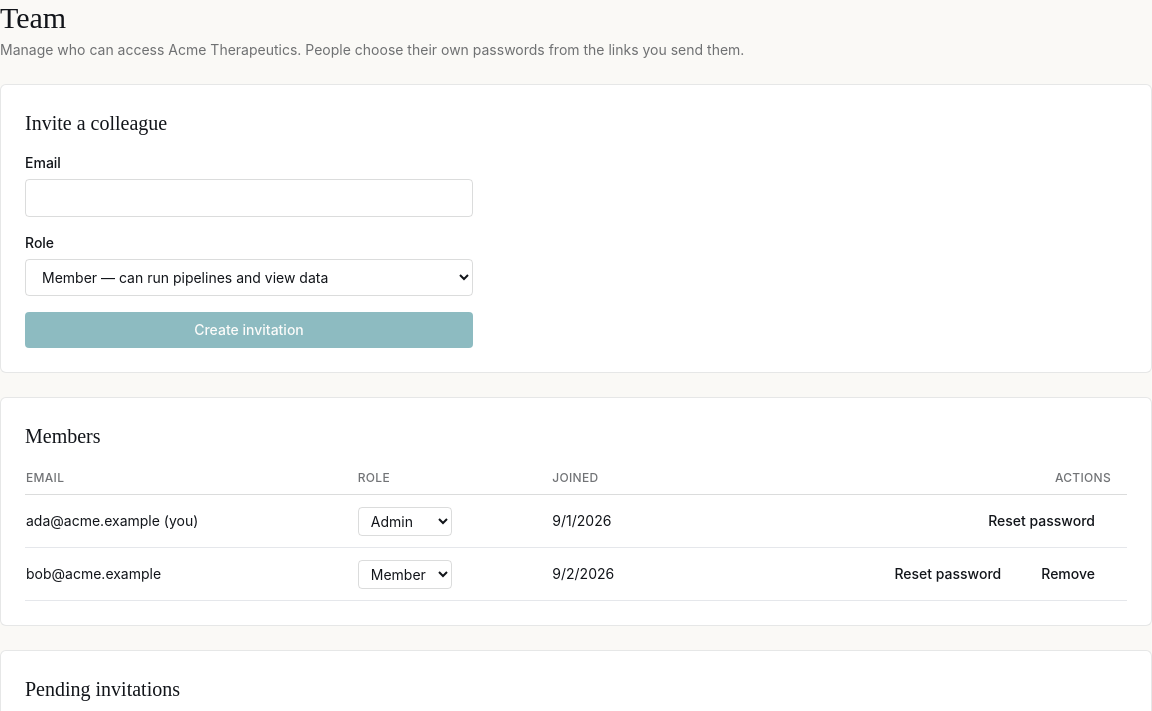
it: Team › refuses to demote the last admin and shows why
The width and height of the screenshot is (1152, 711).
Select "Member" in the dropdown named "Role for ada@acme.example" at (405, 521), box x1=358 y1=506 x2=452 y2=536
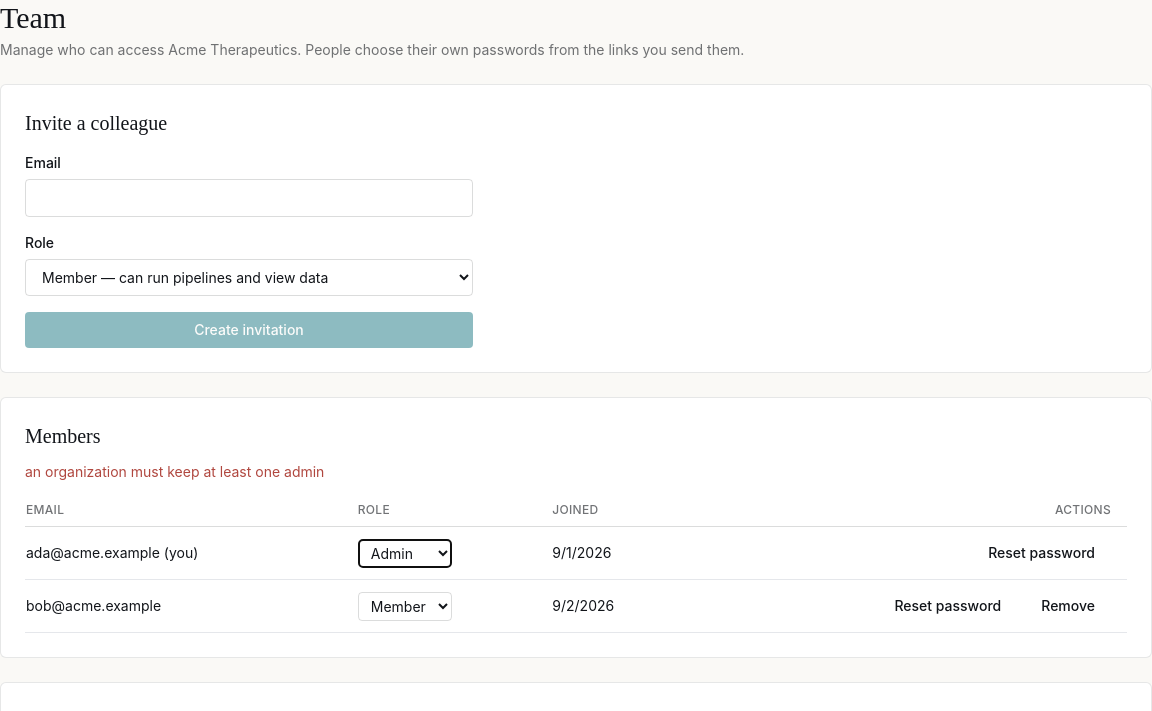
expect the message reads "an organization must keep at least one admin": met, box x1=25 y1=463 x2=324 y2=480
